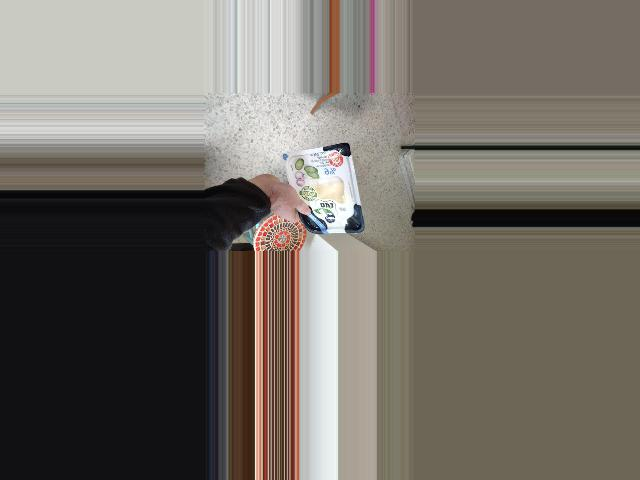cheese: (270, 151, 340, 219)
